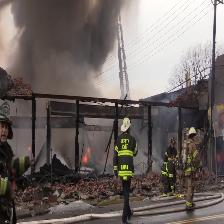smoke: (10, 0, 114, 97)
